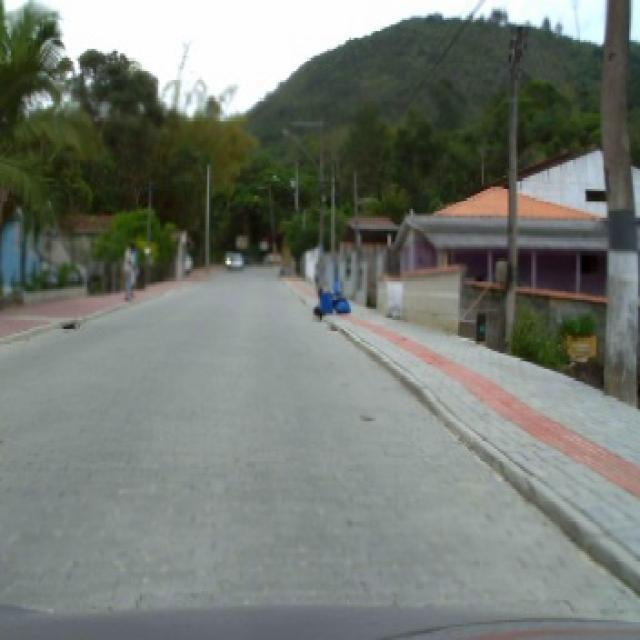Poth-hole: (58, 320, 75, 329), (325, 322, 340, 331)
